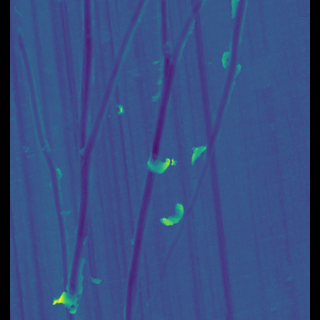Loch: (124, 0, 244, 319), (73, 0, 148, 301), (23, 25, 76, 293), (144, 152, 178, 176), (57, 288, 91, 311), (158, 201, 186, 227), (189, 142, 206, 164)
